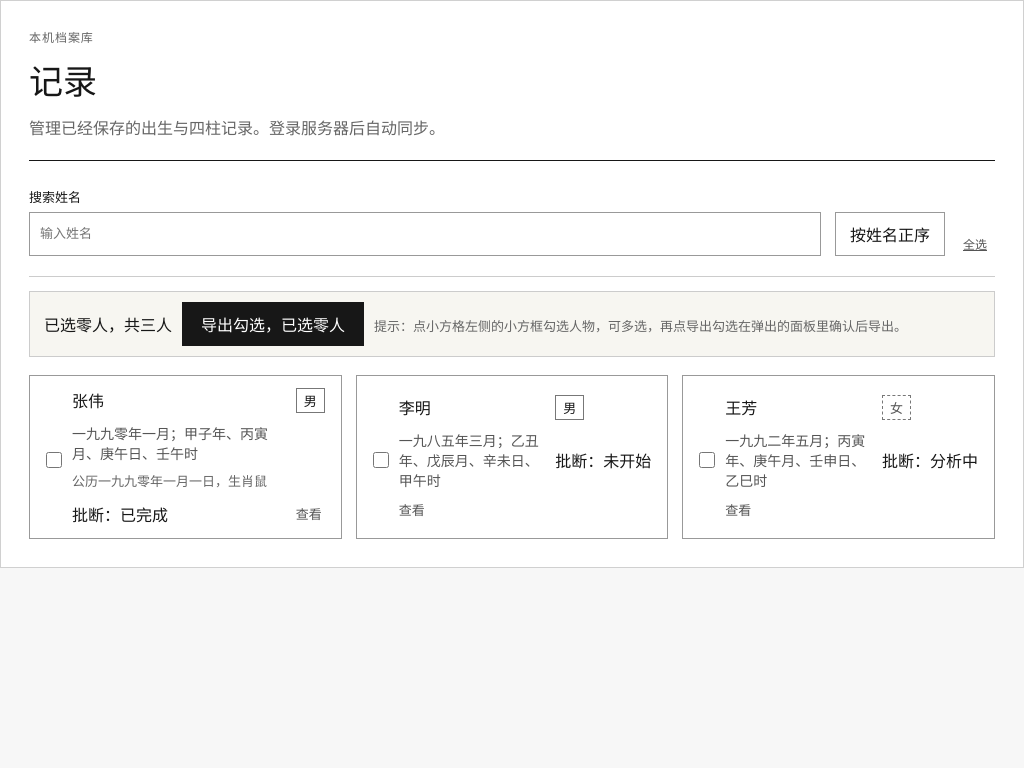
Test: 记录页全选：范围必须跟着搜索过滤走 › 搜索只剩一人时按钮说「全选当前一条」，点下去只勾那一条
Check: the number of checkboxes named "选择" is 3, box [46,452,62,468]; [373,452,389,468]; [699,452,715,468]
Type "芳" into the search field labelled "搜索姓名" at (425, 234), box [29,212,821,256]
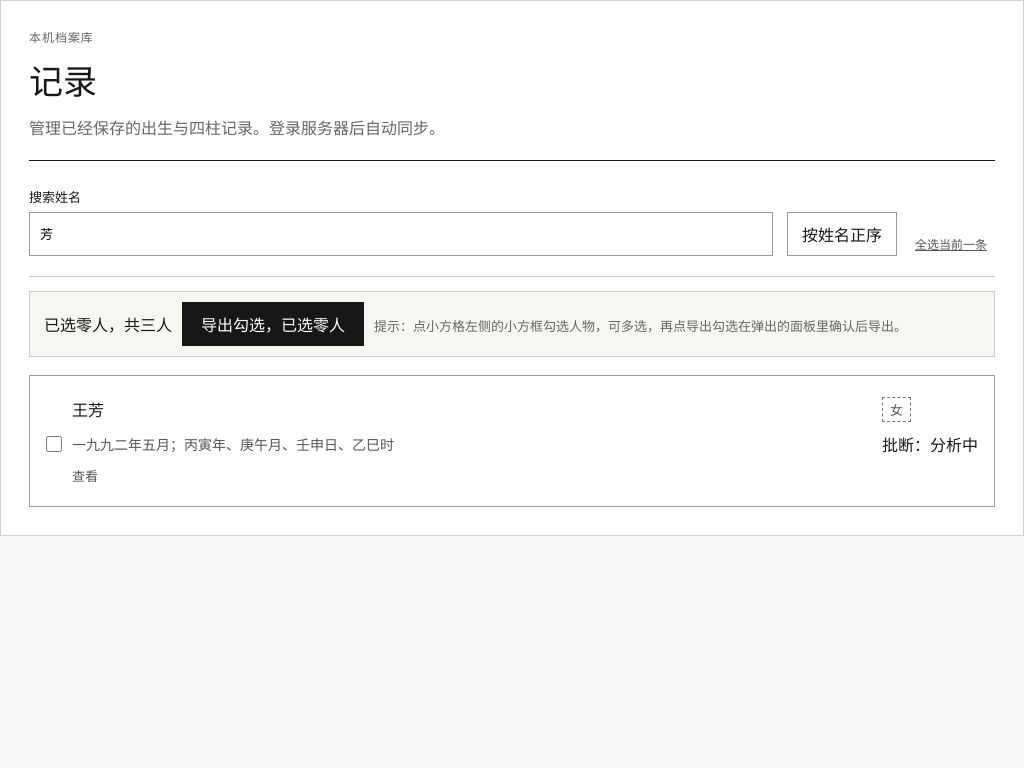
Check: the number of checkboxes named "选择" is 1, box [46,436,62,452]
Check: the button "全选当前一条" is shown
Click the button "全选当前一条" at (951, 244), box [907,232,995,256]
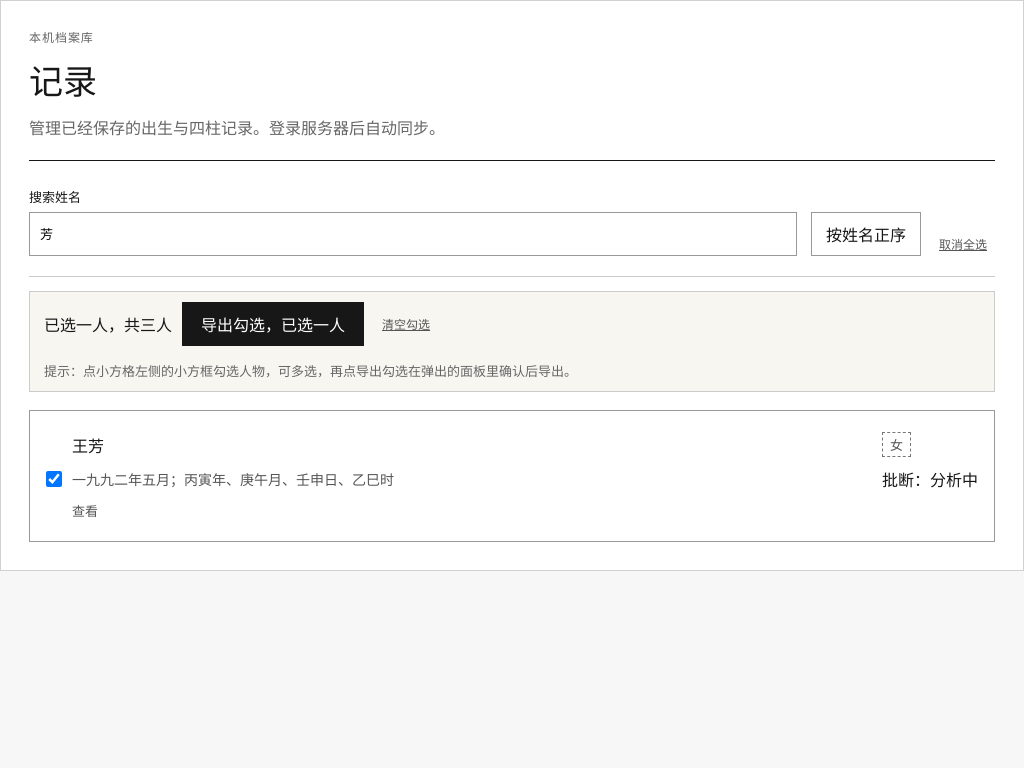
Check: the text "已选一人，共三人" is shown, box [44,312,172,336]
Click the button "导出勾选，已选一人" at (273, 324), box [182,302,364,346]
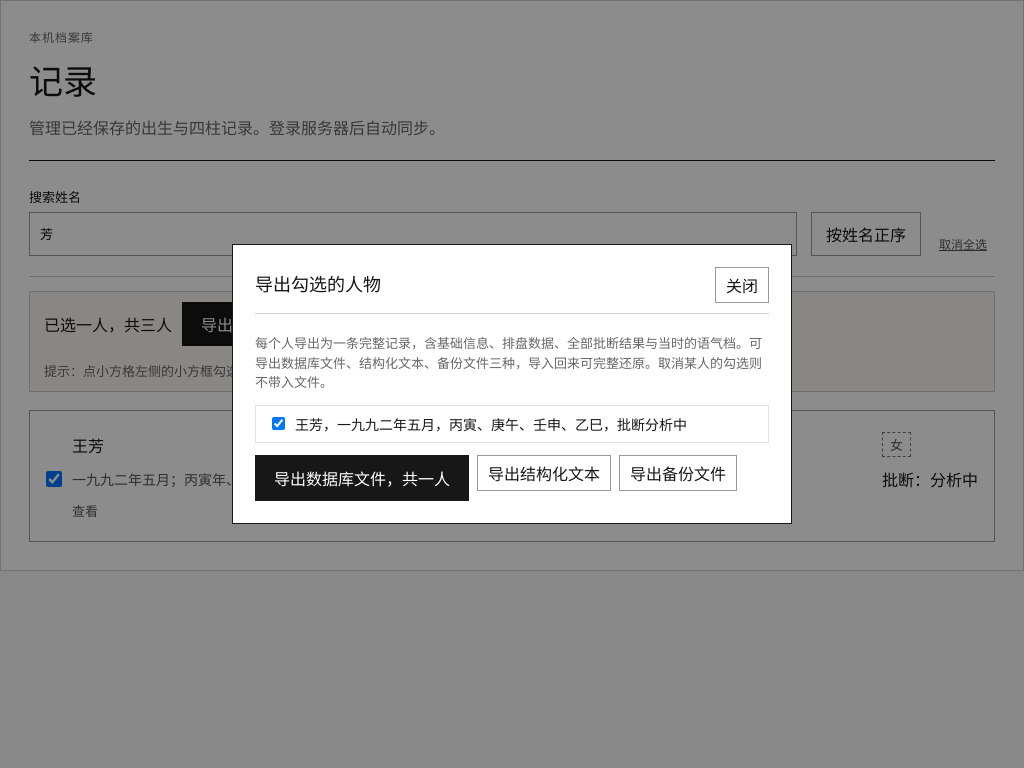
Check: the dialog "导出勾选的人物" is shown, box [232,244,792,524]
Check: the number of checkboxes named "包含" is 1, box [272,417,285,430]
Check: the checkbox named "包含王芳" is checked, box [272,417,285,430]
